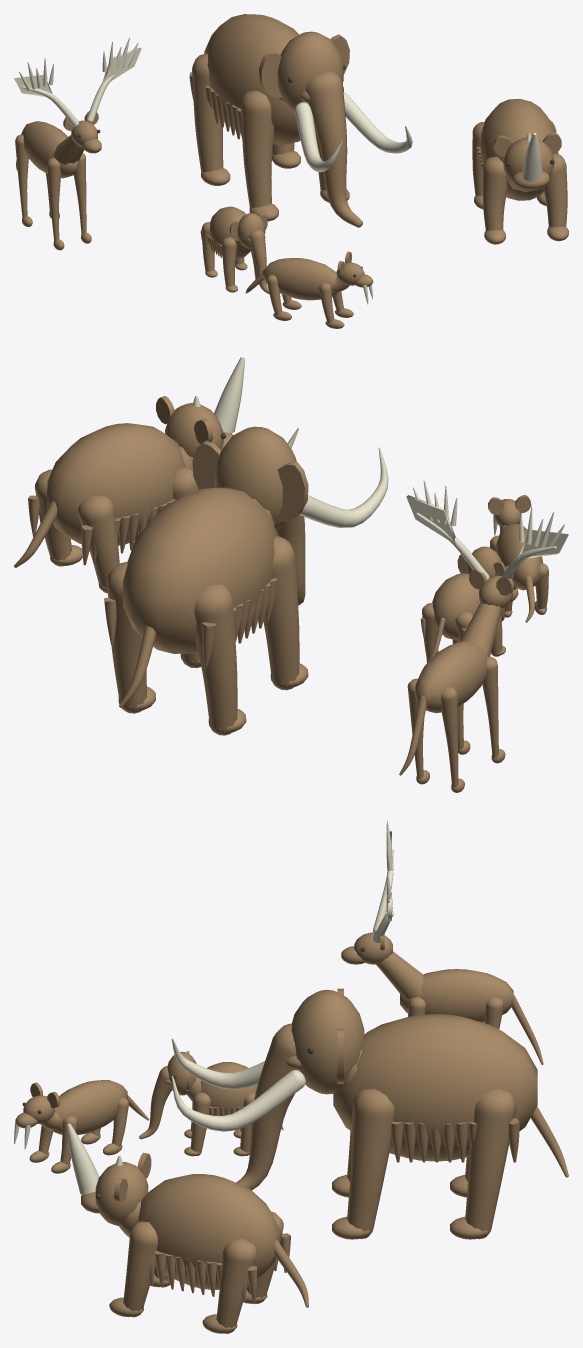
File: dinosaurs-and-prehistoric-life-ice-age-steppe-fc269b61__4929.glb
3 renders of one model, top to bottom at view 1: azimuth 30°, elevation 25°; view 2: azimuth 150°, elevation 25°; view 3: azimuth 270°, elevation 25°, orthographic. The views are drawn at different scales.
Visible parts, largest first — view 1: 000-woolly-mammoth/0, 002-woolly-rhinoceros/0, 003-megaloceros/0, 004-smilodon/0, 001-mammoth-calf/0, 000-woolly-mammoth/2, 003-megaloceros/2, 002-woolly-rhinoceros/2; view 2: 000-woolly-mammoth/0, 002-woolly-rhinoceros/0, 003-megaloceros/0, 001-mammoth-calf/0, 004-smilodon/0, 003-megaloceros/2, 000-woolly-mammoth/2, 002-woolly-rhinoceros/2; view 3: 000-woolly-mammoth/0, 002-woolly-rhinoceros/0, 003-megaloceros/0, 004-smilodon/0, 001-mammoth-calf/0, 000-woolly-mammoth/2, 002-woolly-rhinoceros/2, 003-megaloceros/2.
Part boxes in pixels (left/top/right/bottom): 000-woolly-mammoth/0: left=189, top=14, right=362, bottom=227; 002-woolly-rhinoceros/0: left=472, top=99, right=568, bottom=244; 003-megaloceros/0: left=15, top=111, right=101, bottom=250; 004-smilodon/0: left=245, top=251, right=373, bottom=328; 001-mammoth-calf/0: left=200, top=206, right=269, bottom=293; 000-woolly-mammoth/2: left=294, top=92, right=412, bottom=172; 003-megaloceros/2: left=14, top=37, right=141, bottom=126; 002-woolly-rhinoceros/2: left=522, top=132, right=542, bottom=182; 000-woolly-mammoth/0: left=104, top=426, right=308, bottom=735; 002-woolly-rhinoceros/0: left=14, top=396, right=232, bottom=593; 003-megaloceros/0: left=399, top=570, right=518, bottom=792; 001-mammoth-calf/0: left=420, top=546, right=505, bottom=662; 004-smilodon/0: left=488, top=495, right=548, bottom=622; 003-megaloceros/2: left=406, top=480, right=568, bottom=580; 000-woolly-mammoth/2: left=287, top=427, right=388, bottom=527; 002-woolly-rhinoceros/2: left=192, top=357, right=244, bottom=432; 000-woolly-mammoth/0: left=236, top=988, right=568, bottom=1239; 002-woolly-rhinoceros/0: left=81, top=1152, right=308, bottom=1333; 003-megaloceros/0: left=341, top=932, right=543, bottom=1064; 004-smilodon/0: left=15, top=1080, right=149, bottom=1173; 001-mammoth-calf/0: left=139, top=1051, right=283, bottom=1156; 000-woolly-mammoth/2: left=171, top=1038, right=305, bottom=1131; 002-woolly-rhinoceros/2: left=66, top=1123, right=122, bottom=1194; 003-megaloceros/2: left=373, top=821, right=393, bottom=943.
Size of the model in its own units: 9.3 by 3.72 by 7.68.
